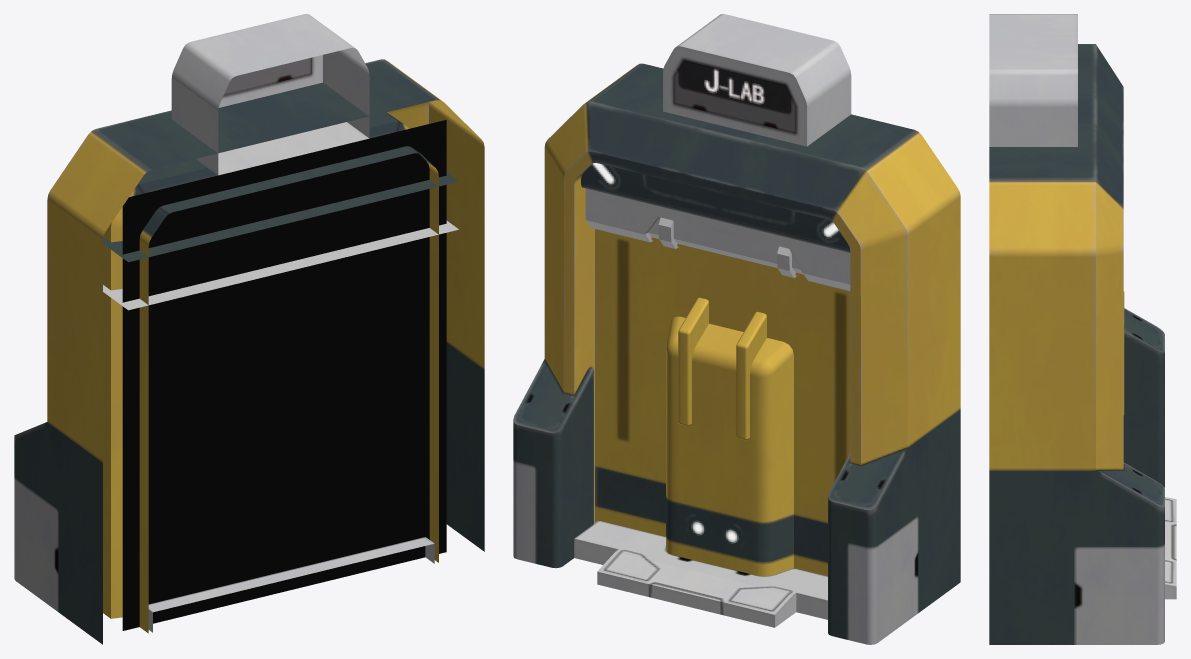
Rendered from Pfb_Soda_Door_Mecha.fbx.
3 renders of one model, left to right at view 1: azimuth 30°, elevation 25°; view 2: azimuth 150°, elevation 25°; view 3: azimuth 270°, elevation 25°, orthographic. The views are drawn at different scales.
Visible parts, largest first — view 1: DoorMecha; view 2: DoorMecha; view 3: DoorMecha.
Boxes of the visible parts, x1,y1,x2,y2 form: DoorMecha: (14, 14, 484, 644); DoorMecha: (513, 14, 960, 644); DoorMecha: (989, 14, 1176, 644).
Size of the model in its own units: 2.52 by 3.38 by 1.12.
1 material, 1 textured.
